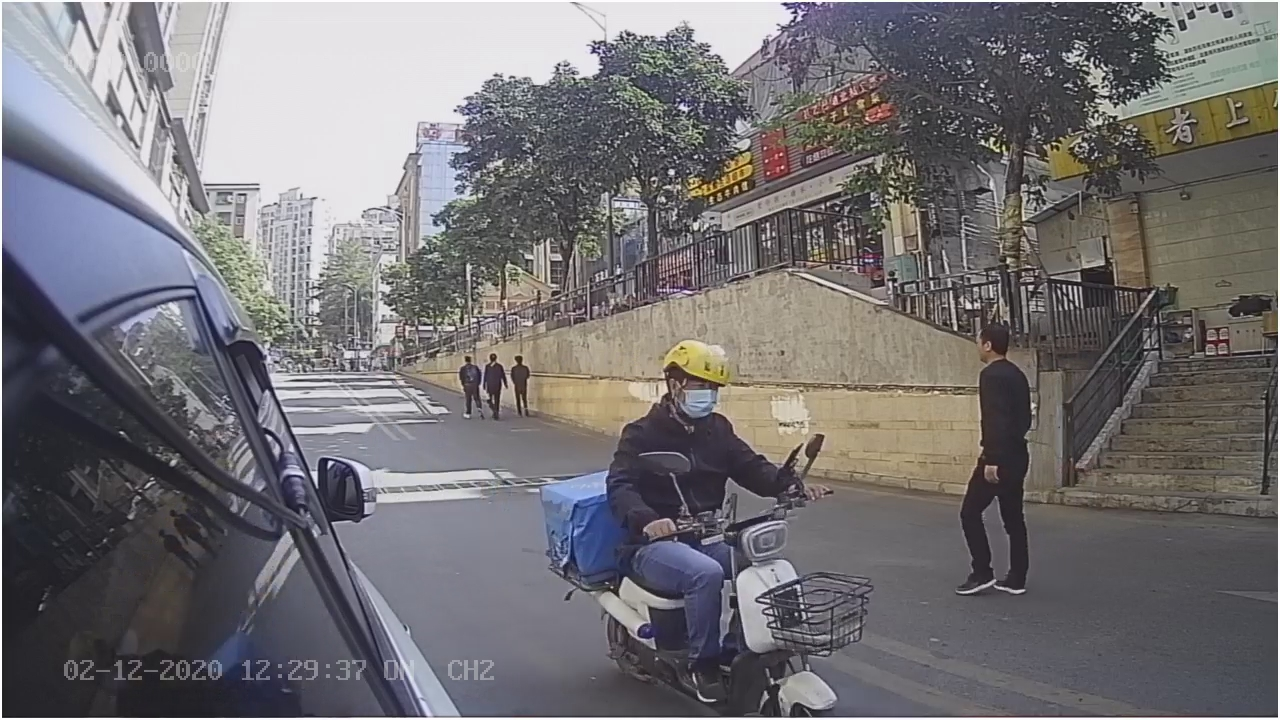person: (605, 334, 778, 533), (950, 309, 1048, 603)
